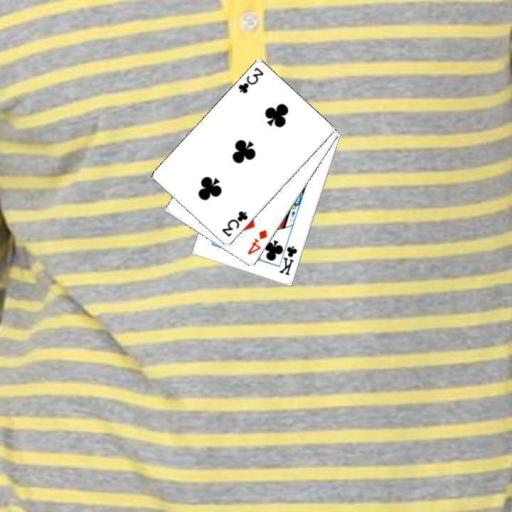card-corner: (218, 208, 250, 239), (235, 64, 265, 95), (274, 238, 298, 276), (244, 227, 269, 257)
